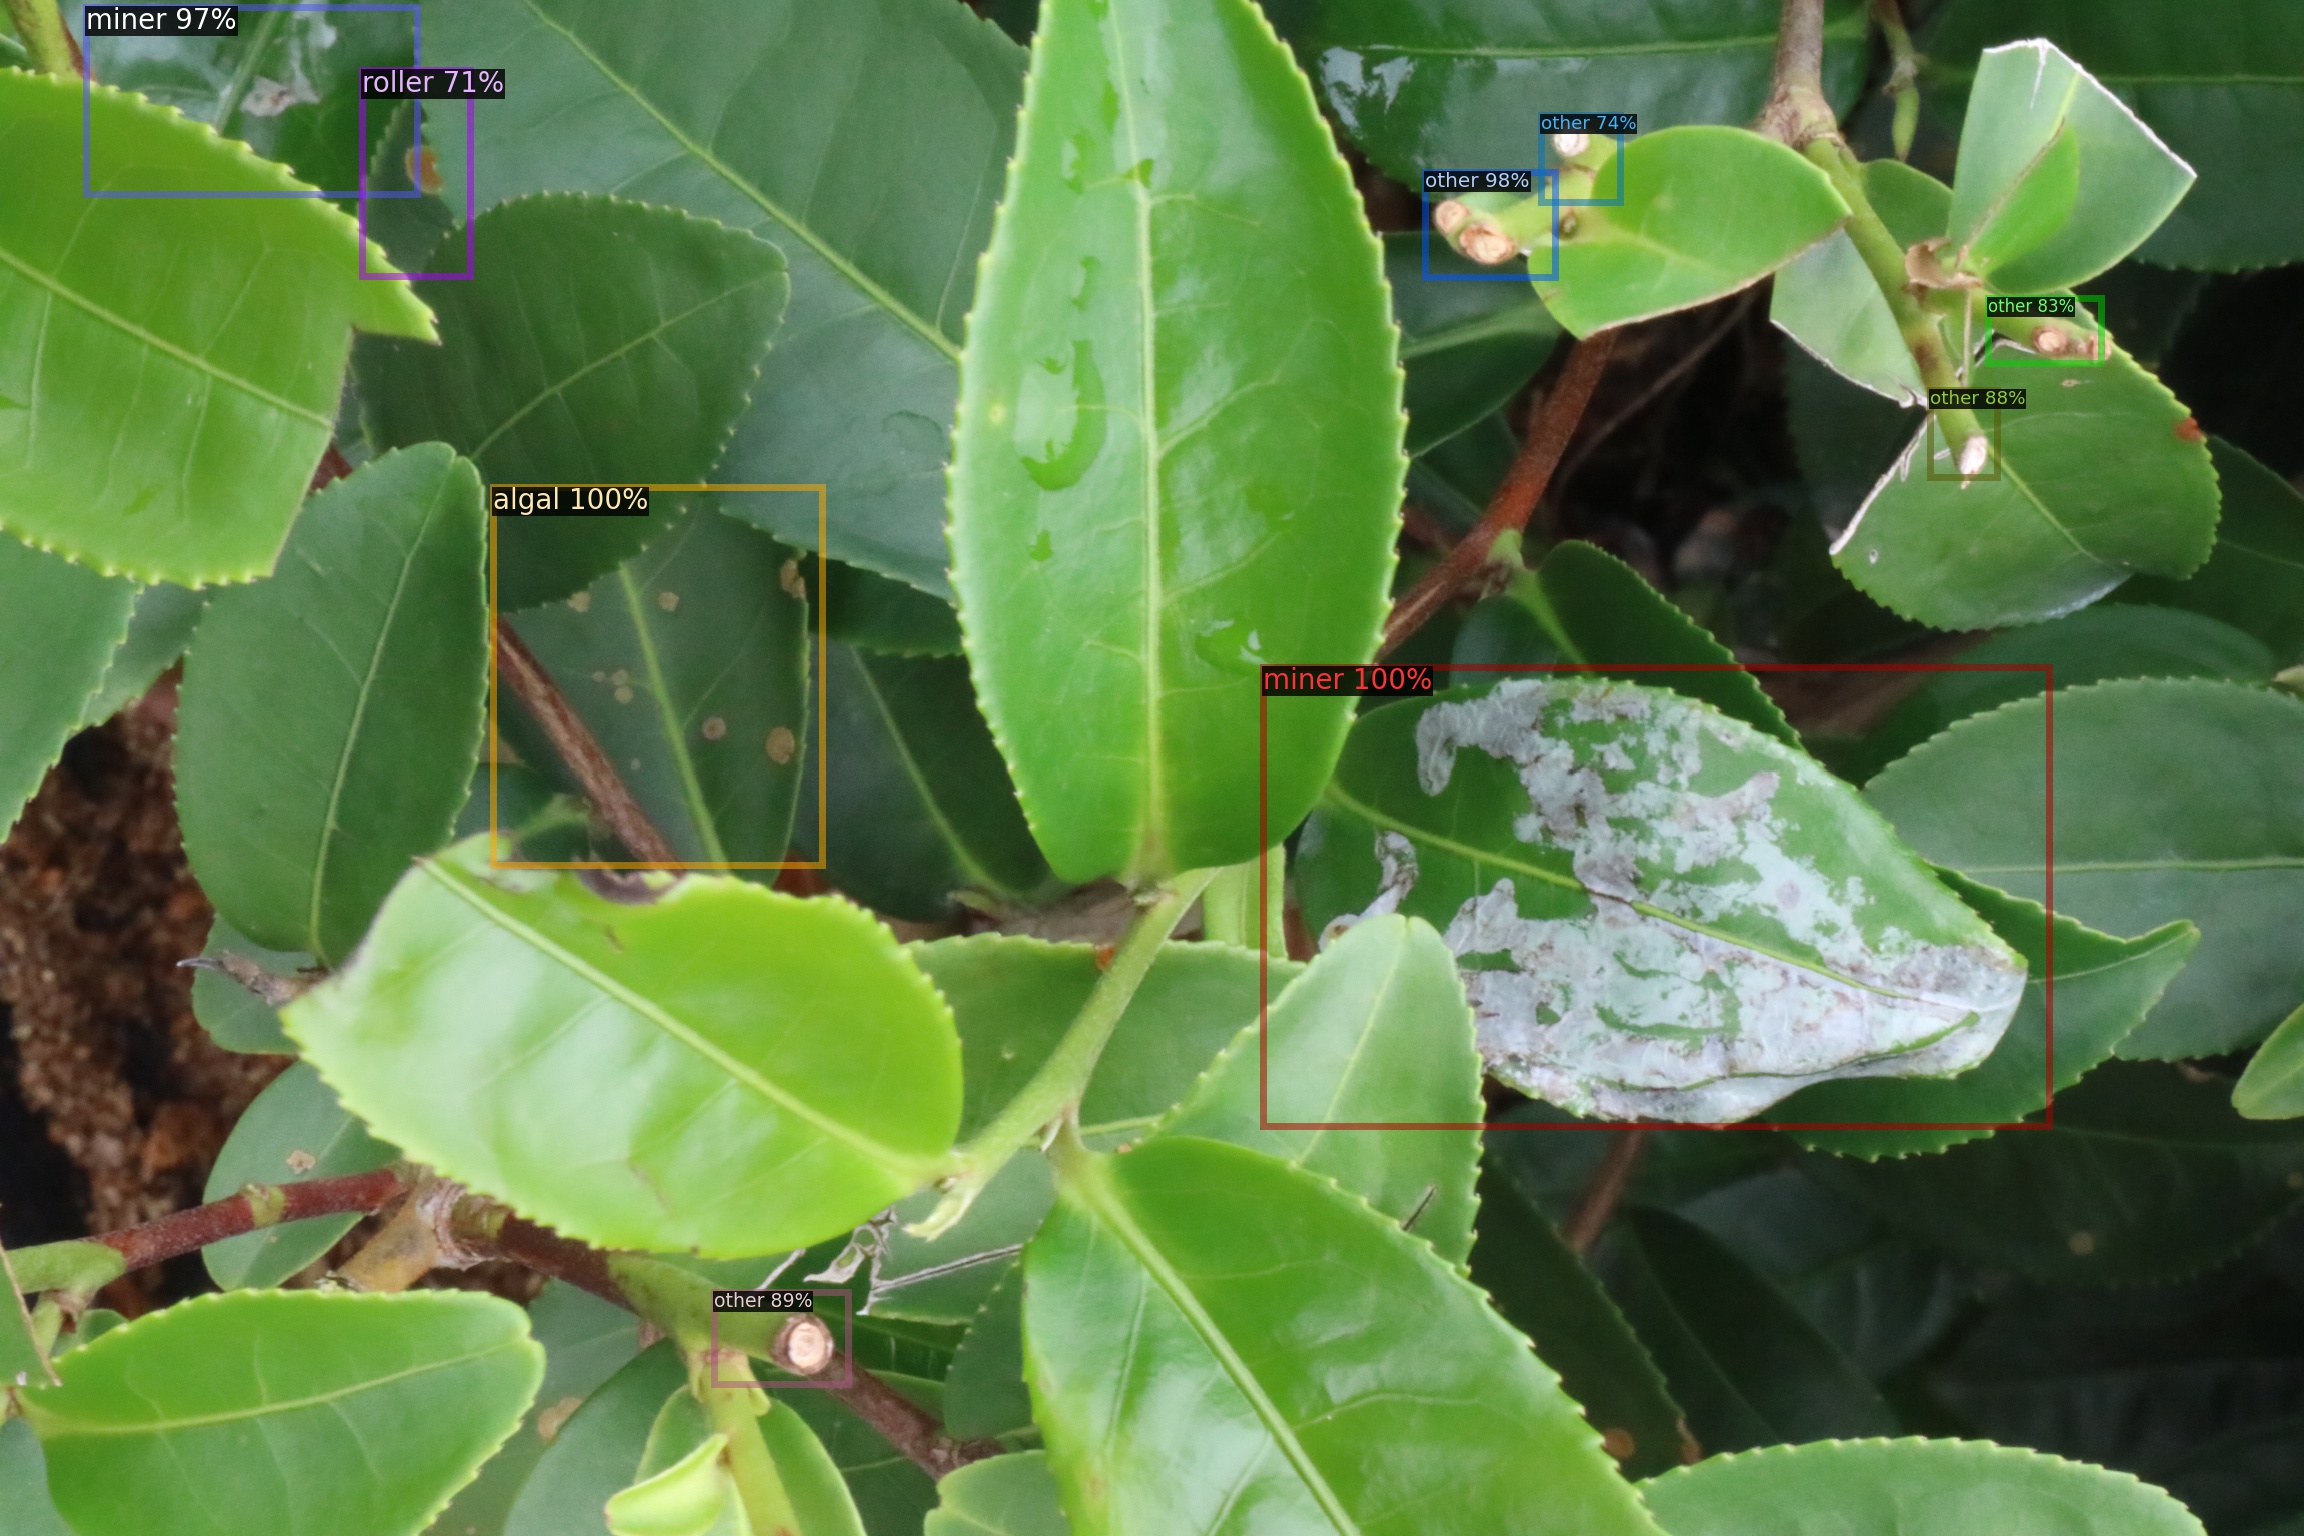algal: (492, 487, 821, 864)
miner: (1262, 667, 2049, 1126), (86, 7, 417, 194)
other: (1425, 171, 1555, 276), (713, 1291, 847, 1383), (1987, 298, 2100, 363), (1539, 113, 1618, 201), (1929, 391, 1997, 477)
roller: (362, 69, 470, 274)
